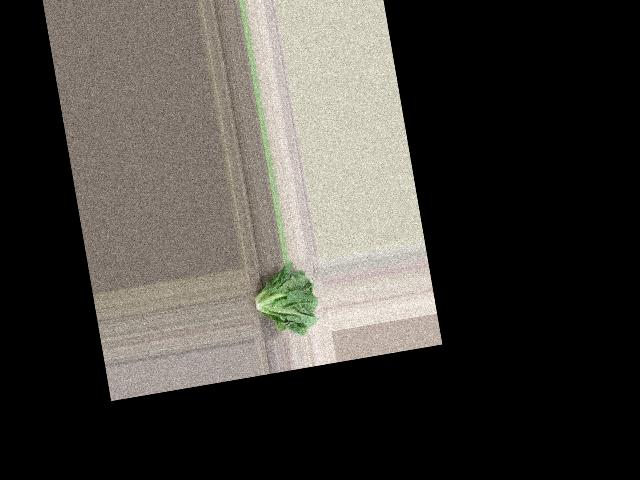lettuce: (244, 258, 324, 341)
